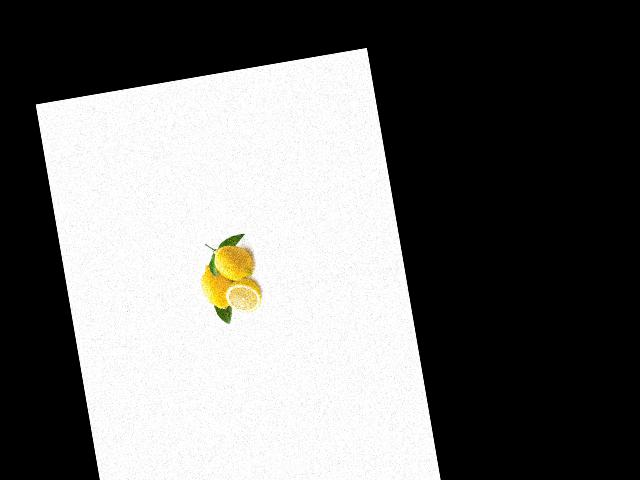lemon: (196, 259, 238, 310)
